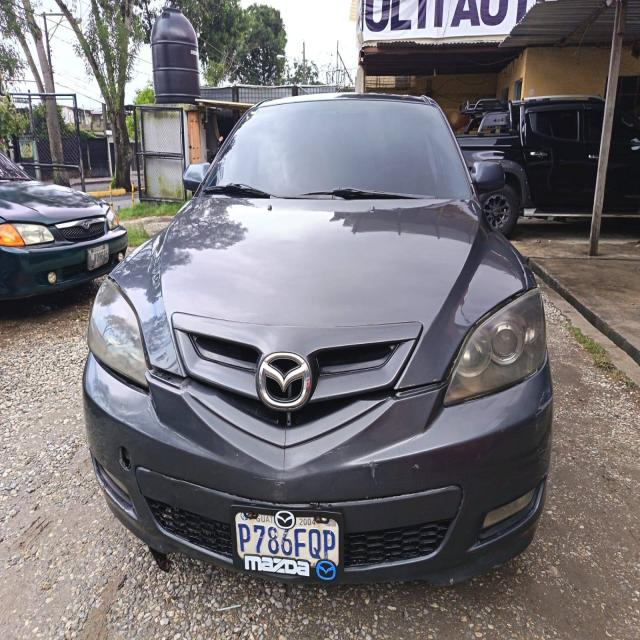Placas: (229, 502, 343, 589)
